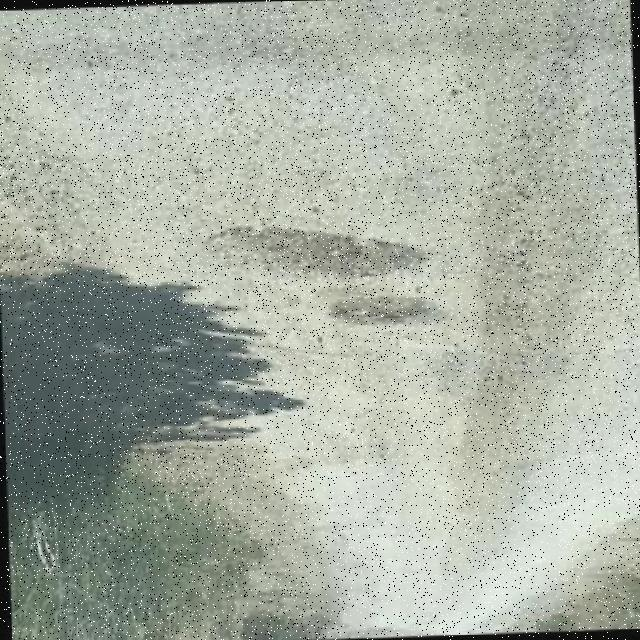Pothole: (211, 224, 428, 277), (331, 294, 442, 325)
